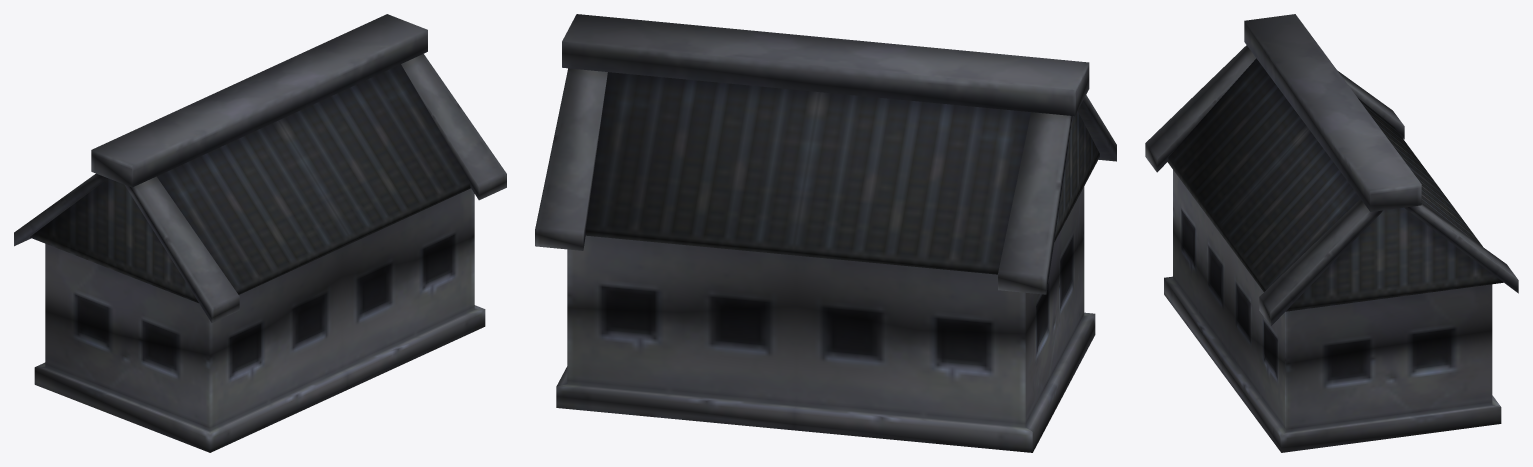
The model's file is Area_14_5.fbx.
The picture shows the model from 3 angles, left to right: view 1: azimuth 30°, elevation 25°; view 2: azimuth 150°, elevation 25°; view 3: azimuth 270°, elevation 25°; orthographic projection. The views are drawn at different scales.
Visible parts, largest first — view 1: Area_14_5; view 2: Area_14_5; view 3: Area_14_5.
Boxes of the visible parts, bbox=[...] form: Area_14_5: bbox=[14, 14, 506, 452]; Area_14_5: bbox=[535, 14, 1116, 452]; Area_14_5: bbox=[1145, 14, 1518, 452].
Bounding box in the file's own units: 1704 × 1007 × 1328.
